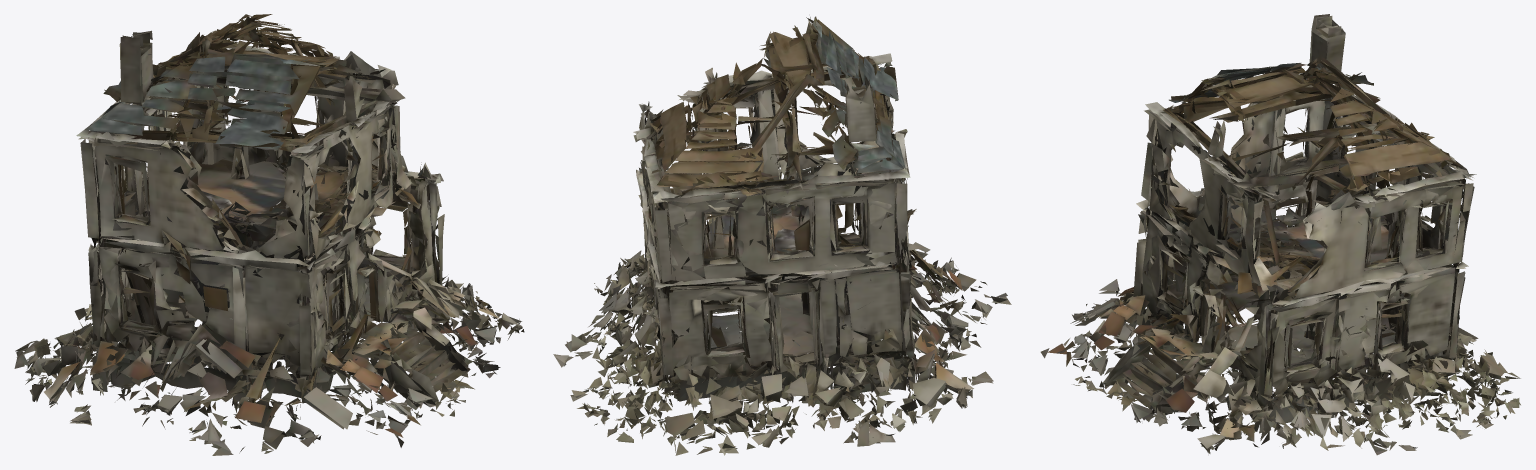
File: Building2_collider.fbx
3 views of the same model, side by side, from view 1: azimuth 30°, elevation 25°; view 2: azimuth 150°, elevation 25°; view 3: azimuth 270°, elevation 25° (orthographic). The views are drawn at different scales.
Parts seen in each view (by area): view 1: Mesh_0.001; view 2: Mesh_0.001; view 3: Mesh_0.001.
Part boxes in pixels (x1,y1,x2,y2): Mesh_0.001: [14, 14, 524, 455]; Mesh_0.001: [553, 16, 1011, 455]; Mesh_0.001: [1040, 14, 1520, 455].
Bounding box in the file's own units: 0.732 × 0.5783 × 0.7826.
Materials: 1 (1 with a texture image).
